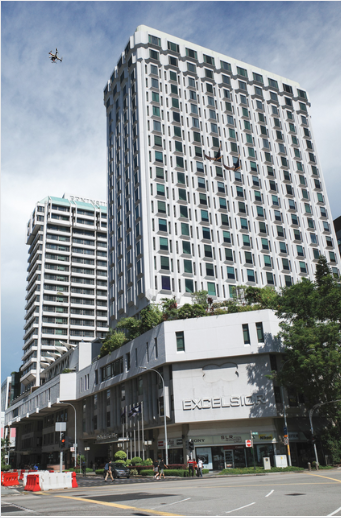drone_other: (46, 48, 65, 65)
